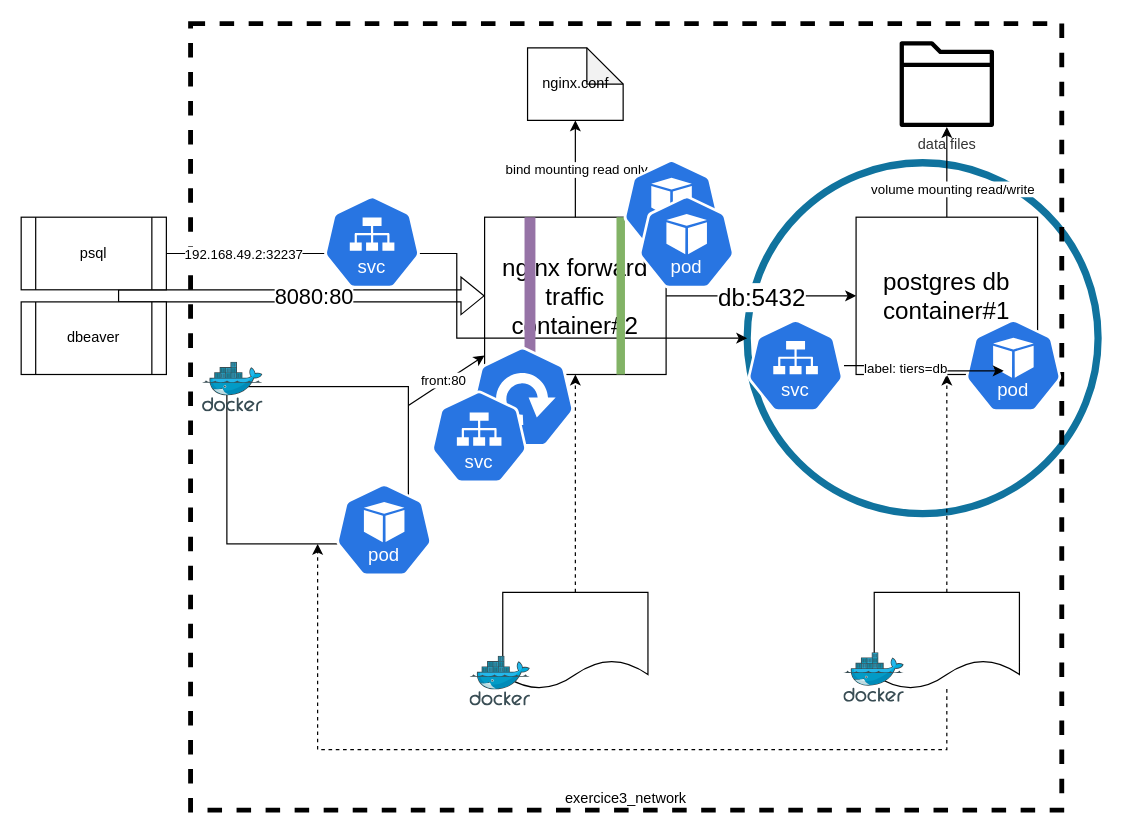
The diagram is 1123 pixels wide and 832 high, and some of its shapes have lost their labels. The box of each missing label's shape, as (x1, y1, x2, y2) in pixels:
image nginx: (502, 591, 648, 689)
image postgres: (873, 591, 1019, 689)
psql container tmp: (226, 385, 408, 544)
